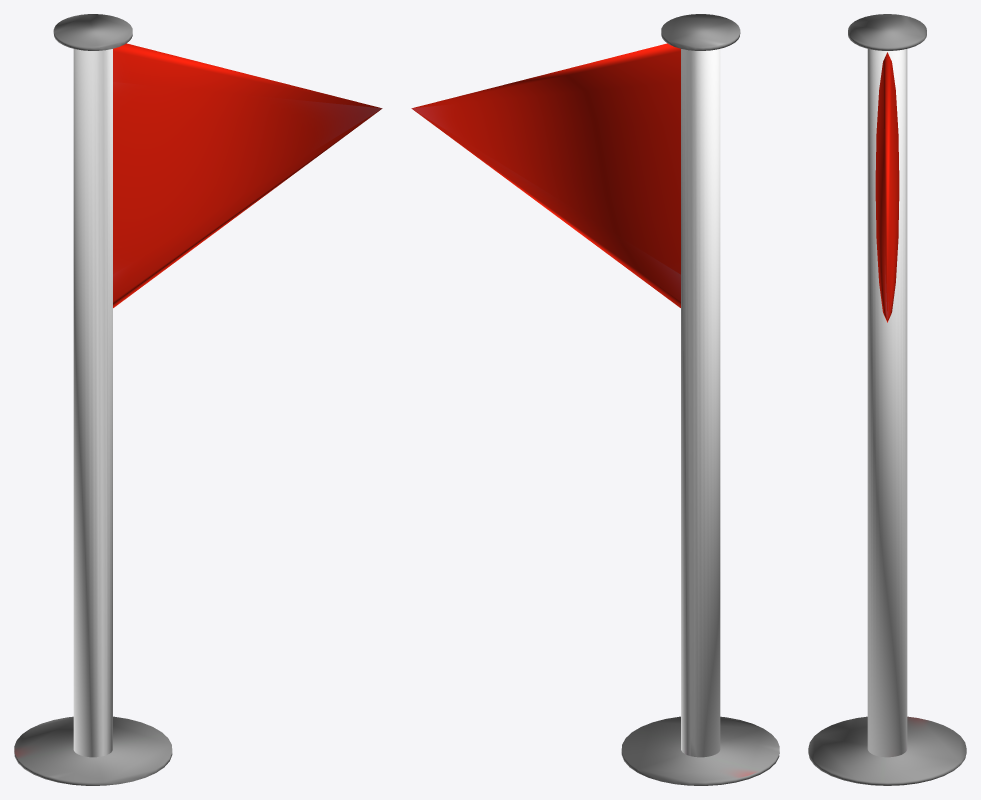
The picture shows the model from 3 angles, left to right: view 1: azimuth 30°, elevation 25°; view 2: azimuth 150°, elevation 25°; view 3: azimuth 270°, elevation 25°; orthographic projection.
Visible parts, largest first — view 1: Cone; view 2: Cone; view 3: Cone.
Part boxes in pixels (x1,y1,x2,y2): Cone: (14, 14, 382, 785); Cone: (411, 14, 779, 785); Cone: (808, 14, 966, 785).
Size of the model in its own units: 1.04 by 2.01 by 0.4.
1 material, 1 textured.
